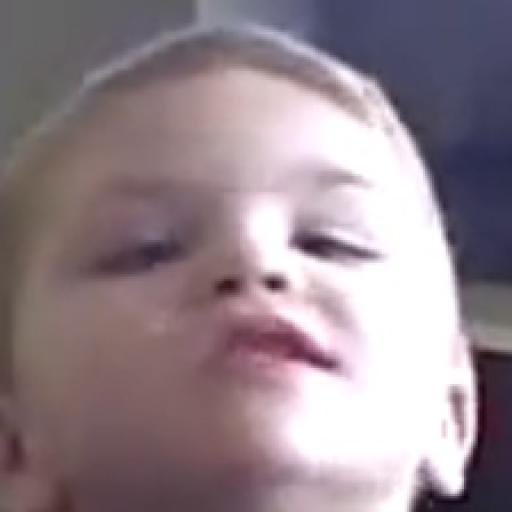Autism: (52, 32, 487, 512)
